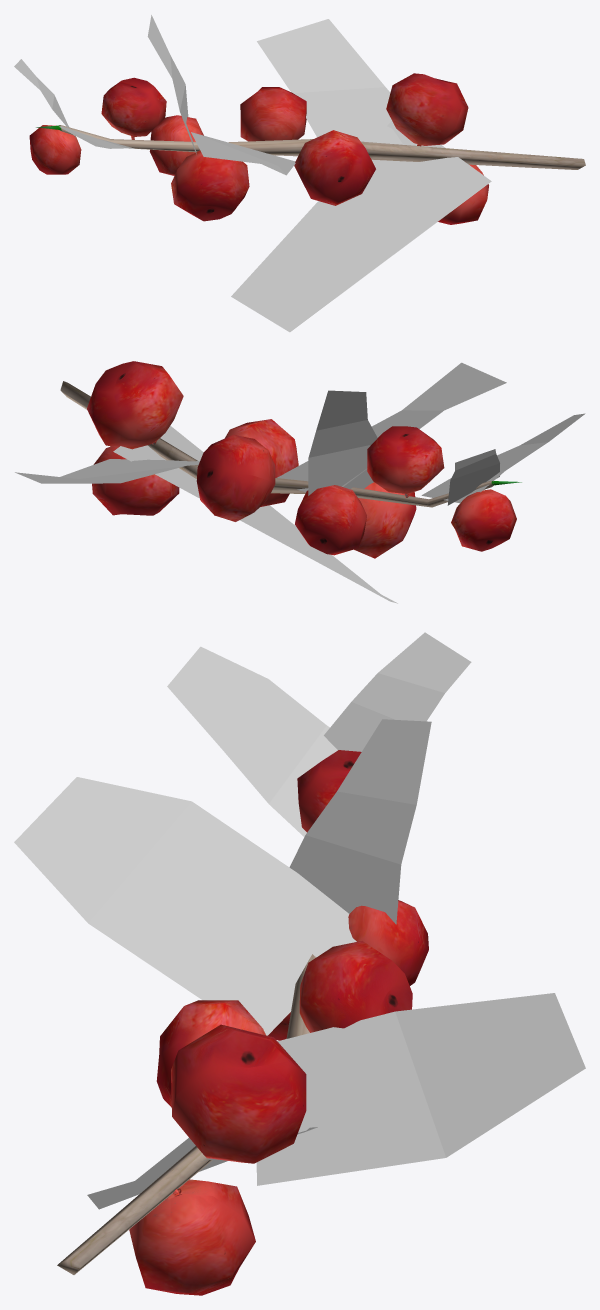
Rendered from ficus_fruit 1.fbx.
3 renders of one model, top to bottom at view 1: azimuth 30°, elevation 25°; view 2: azimuth 150°, elevation 25°; view 3: azimuth 270°, elevation 25°, orthographic. The views are drawn at different scales.
Visible parts, largest first — view 1: fruit_LOD0; view 2: fruit_LOD0; view 3: fruit_LOD0.
Part boxes in pixels (x1=…): fruit_LOD0: x1=14, y1=15, x2=585, y2=332; fruit_LOD0: x1=15, y1=361, x2=585, y2=603; fruit_LOD0: x1=14, y1=632, x2=585, y2=1295.
Size of the model in its own units: 17.63 by 9.08 by 10.44.
